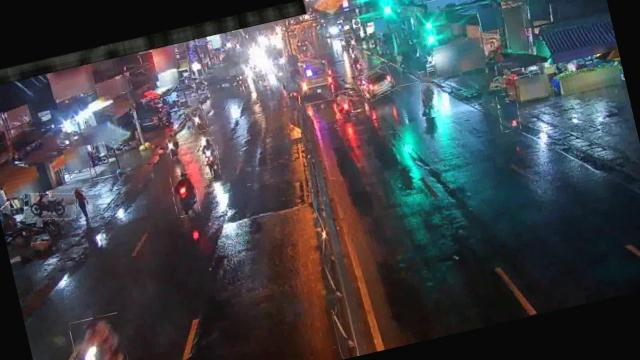Bike: (68, 312, 134, 360), (21, 186, 79, 227), (170, 171, 202, 218), (196, 136, 224, 178), (496, 91, 524, 132), (416, 82, 442, 119), (186, 105, 210, 134), (166, 127, 187, 160), (334, 89, 354, 122), (350, 52, 367, 76)
Car: (357, 66, 398, 102)
